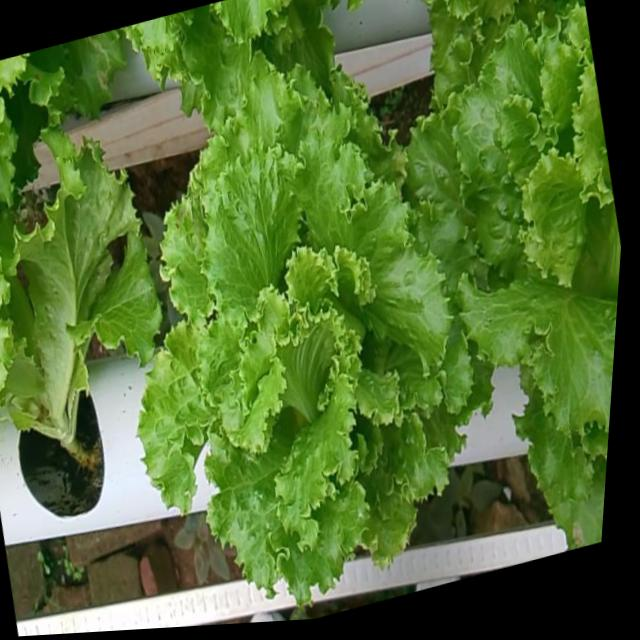Mature: (131, 64, 470, 603), (404, 23, 621, 448)
